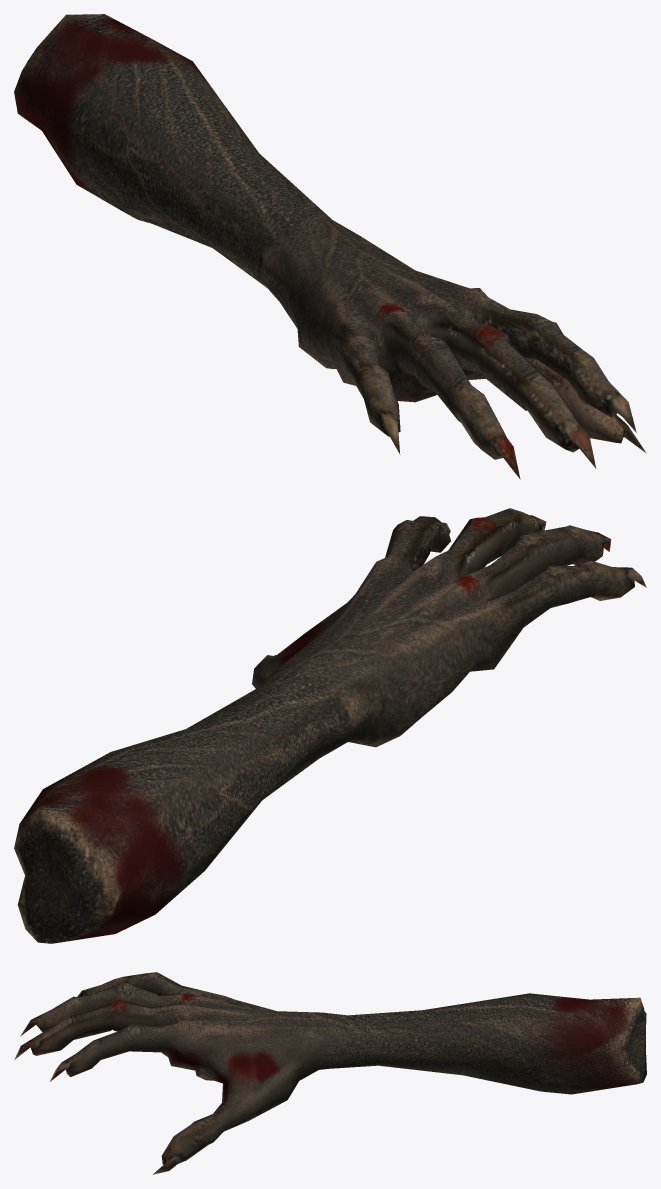
File: Black_Hand.fbx
3 views of the same model, one above another, from view 1: azimuth 30°, elevation 25°; view 2: azimuth 150°, elevation 25°; view 3: azimuth 270°, elevation 25° (orthographic). The views are drawn at different scales.
Parts seen in each view (by area): view 1: Black_Hand; view 2: Black_Hand; view 3: Black_Hand.
Boxes of the visible parts, <box> form: Black_Hand: <box>14,14,646,479</box>; Black_Hand: <box>14,508,646,943</box>; Black_Hand: <box>14,972,646,1174</box>.
Bounding box in the file's own units: 35.63 × 21.23 × 99.82.
Materials: 1 (1 with a texture image).
